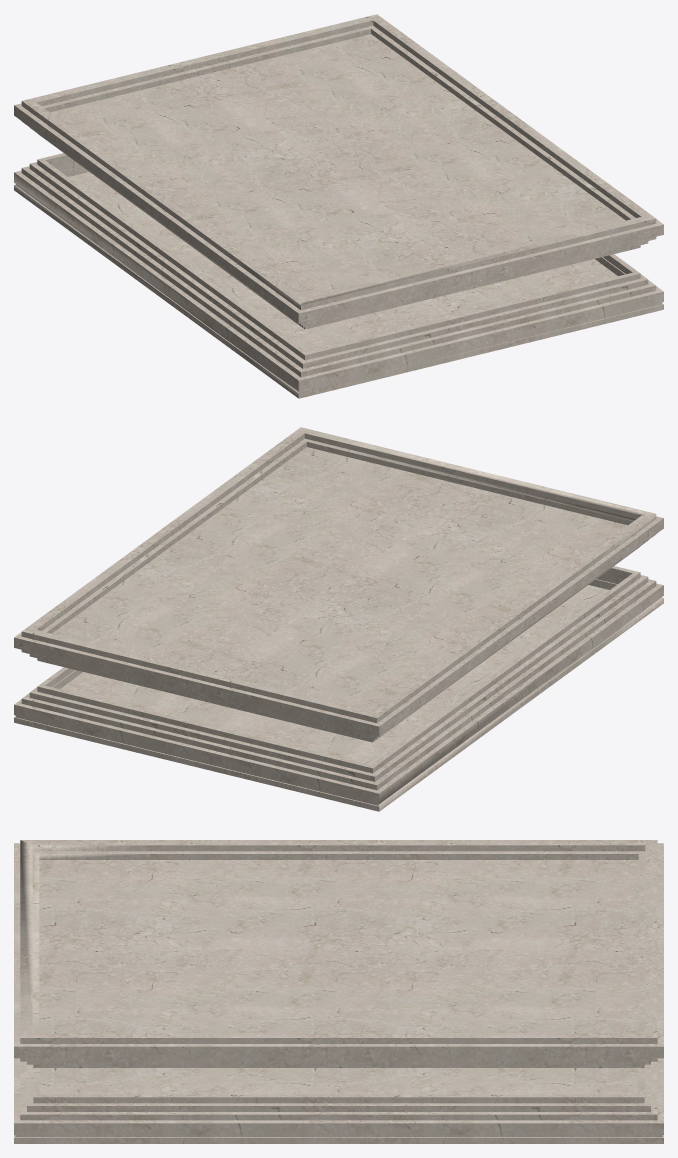
File: marble_tile_245.fbx
3 renders of one model, top to bottom at view 1: azimuth 30°, elevation 25°; view 2: azimuth 150°, elevation 25°; view 3: azimuth 270°, elevation 25°, orthographic. The views are drawn at different scales.
Parts seen in each view (by area): view 1: marble_tile_245; view 2: marble_tile_245; view 3: marble_tile_245.
Part boxes in pixels (x1=…): marble_tile_245: x1=14, y1=14, x2=663, y2=398; marble_tile_245: x1=14, y1=427, x2=663, y2=811; marble_tile_245: x1=14, y1=840, x2=663, y2=1143.
Bounding box in the file's own units: 301 × 71.18 × 407.
